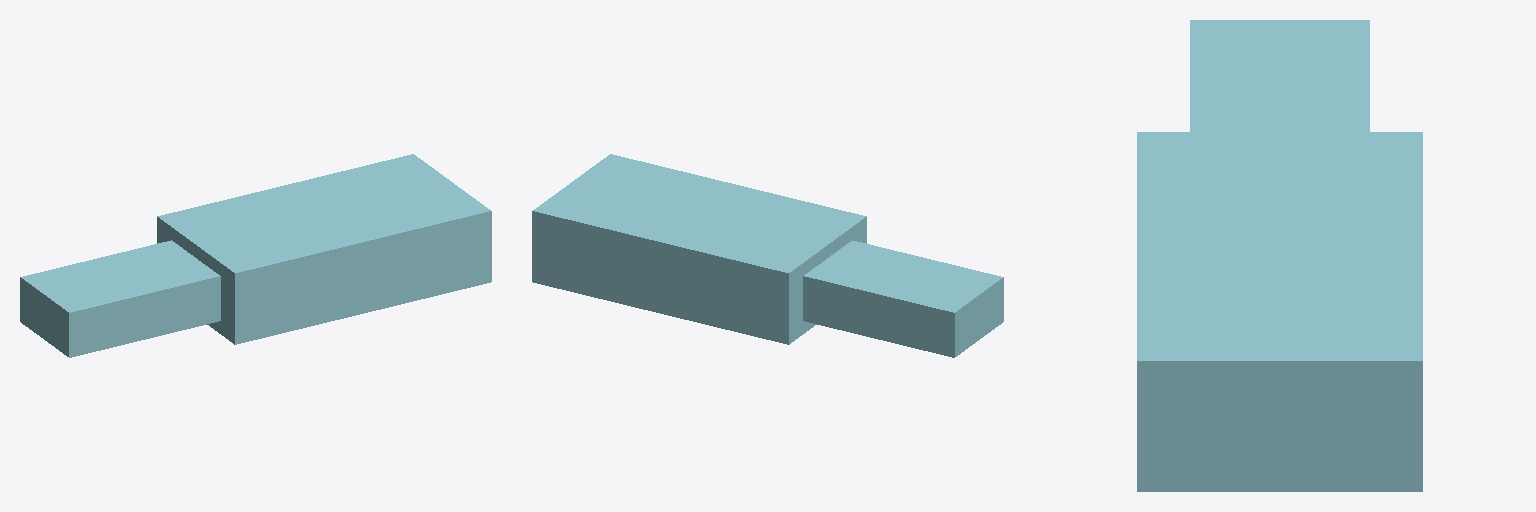
URDF robot description (cuboid_brush_v10015):
<?xml version="1.0"?>
<robot name="cuboid_brush_v10015">

  <link name="cuboid_brush_v10015">
    <!-- Handle -->
    <visual>
      <origin xyz="0 0 0" rpy="0 0 0"/>
      <geometry>
        <box size="0.0688495779302804 0.038567491475370495 0.01964061519172701"/>
      </geometry>
      <material name="material">
        <color rgba="0.639 0.847 0.882 1.0"/>
      </material>
    </visual>
    <collision>
      <origin xyz="0 0 0" rpy="0 0 0"/>
      <geometry>
        <box size="0.0688495779302804 0.038567491475370495 0.01964061519172701"/>
      </geometry>
    </collision>

    <!-- Head -->
    <visual>
      <origin xyz="0.09278698233682181 0 0" rpy="0 0 0"/>
      <geometry>
        <box size="0.11672438674336322 0.0614503814397077 0.031088331040798674"/>
      </geometry>
      <material name="material">
        <color rgba="0.639 0.847 0.882 1.0"/>
      </material>
    </visual>
    <collision>
      <origin xyz="0.09278698233682181 0 0" rpy="0 0 0"/>
      <geometry>
        <box size="0.11672438674336322 0.0614503814397077 0.031088331040798674"/>
      </geometry>
    </collision>

    <inertial>
      <density value="400.0"/>
    </inertial>
  </link>

</robot>

--- Facts derived from the render (not from the file) ---
Views: 3 orthographic renders of the robot side by side, from view 1: azimuth 30°, elevation 25°; view 2: azimuth 150°, elevation 25°; view 3: azimuth 270°, elevation 25°.
Robot: cuboid_brush_v10015 — 1 links, 0 joints (none); root link cuboid_brush_v10015; default pose: all joints at 0.
Links seen in each view (by area): view 1: cuboid_brush_v10015; view 2: cuboid_brush_v10015; view 3: cuboid_brush_v10015.
Boxes of the visible links, box(x1,y1,x2,y2) form: cuboid_brush_v10015: box(20, 154, 491, 357); cuboid_brush_v10015: box(532, 154, 1003, 357); cuboid_brush_v10015: box(1137, 20, 1422, 491).
Size in the robot's own frame: 0.1856 by 0.0615 by 0.0311 metres.
Geometry: primitives only (box / cylinder / sphere), no mesh files.
